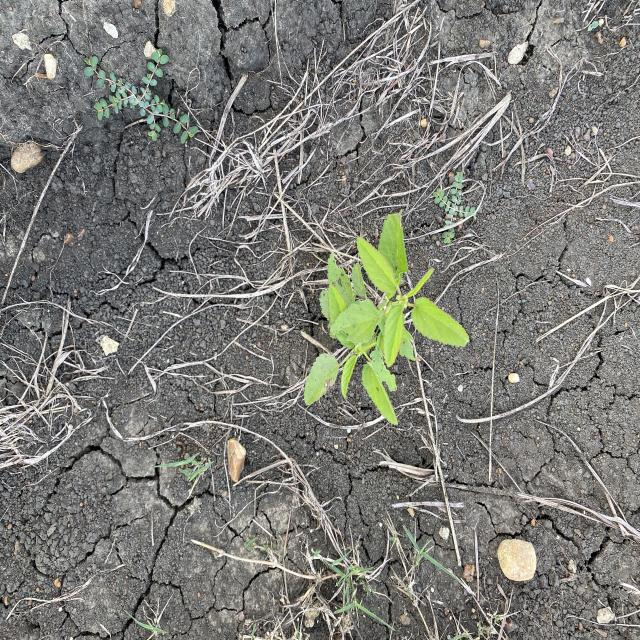PricklySida: (303, 210, 471, 431)
SpottedSpurge: (82, 46, 200, 146), (431, 168, 476, 248)
